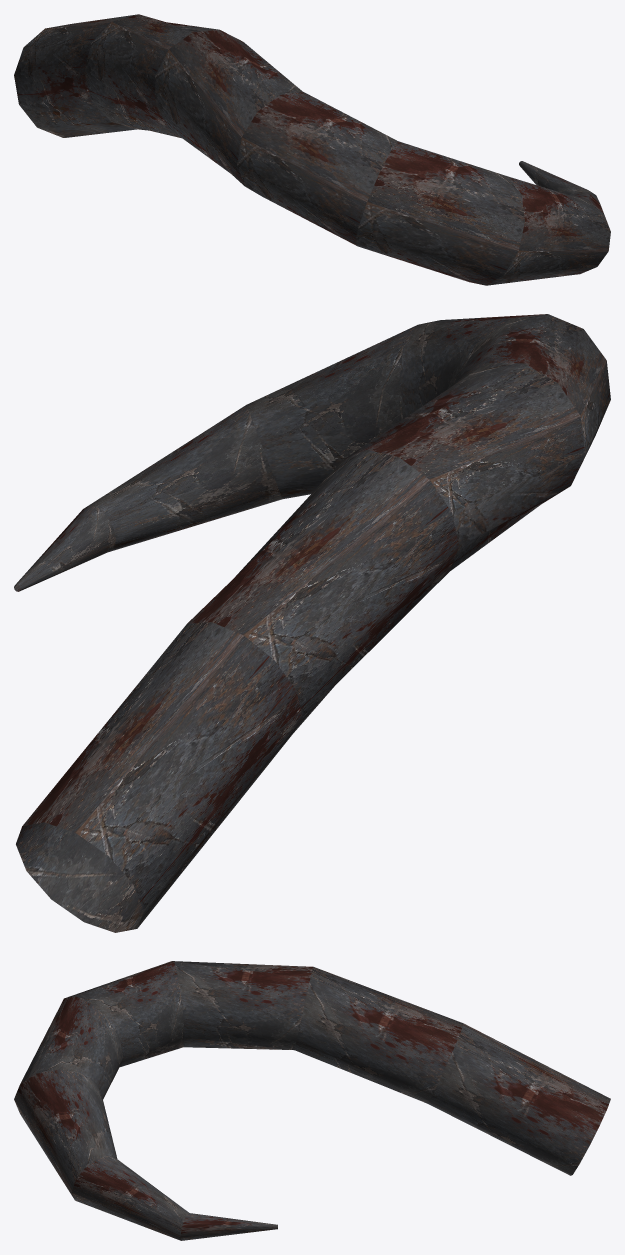
The model's file is HookProjectile.fbx.
The picture shows the model from 3 angles, top to bottom: view 1: azimuth 30°, elevation 25°; view 2: azimuth 150°, elevation 25°; view 3: azimuth 270°, elevation 25°; orthographic projection. The views are drawn at different scales.
Parts seen in each view (by area): view 1: HookProjectile; view 2: HookProjectile; view 3: HookProjectile.
Part boxes in pixels (left/top/right/bottom): HookProjectile: left=14, top=14, right=610, bottom=285; HookProjectile: left=14, top=314, right=610, bottom=932; HookProjectile: left=14, top=961, right=610, bottom=1240.
Size of the model in its own units: 34.79 by 21.97 by 63.4.
Materials: 1 (1 with a texture image).
